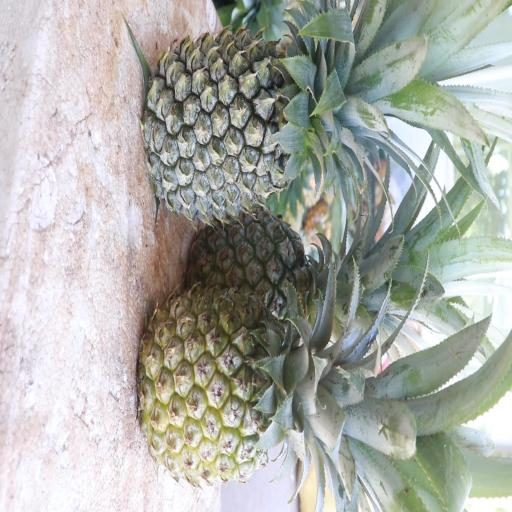------------------------------: (133, 282, 370, 496), (181, 195, 381, 354)
